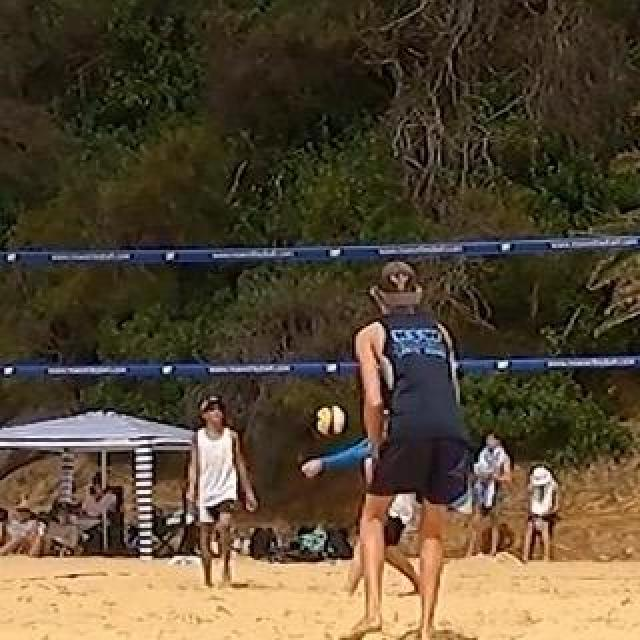volleyball: (319, 406, 349, 436)
